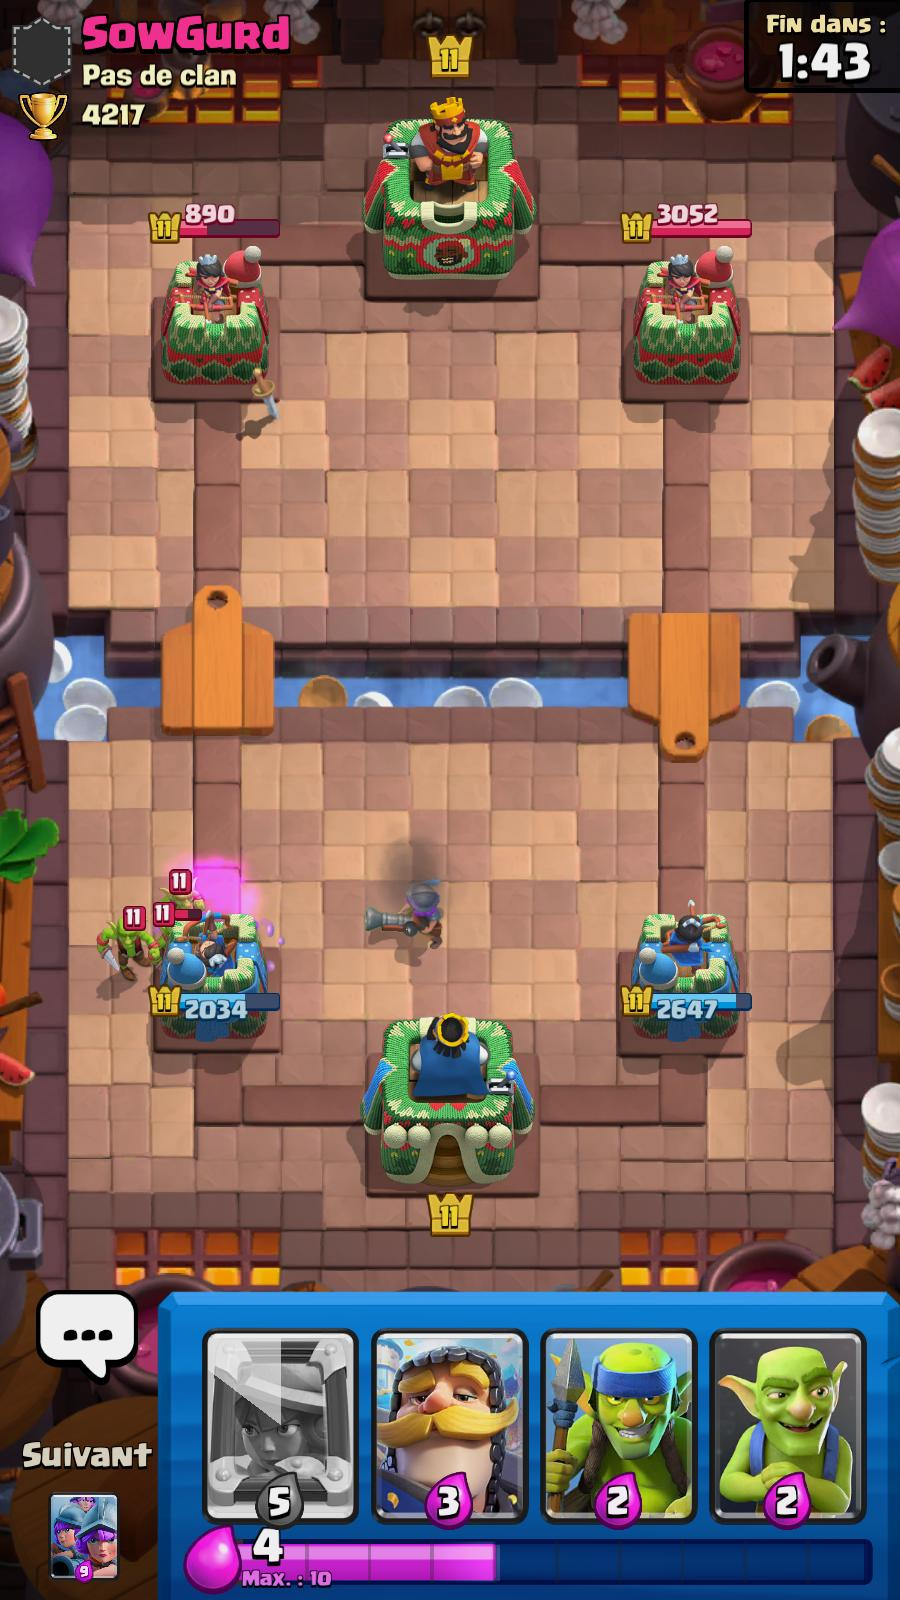gobelin: (98, 908, 152, 976), (157, 869, 204, 913), (152, 904, 195, 943)
mousquetaire: (363, 874, 446, 952)
